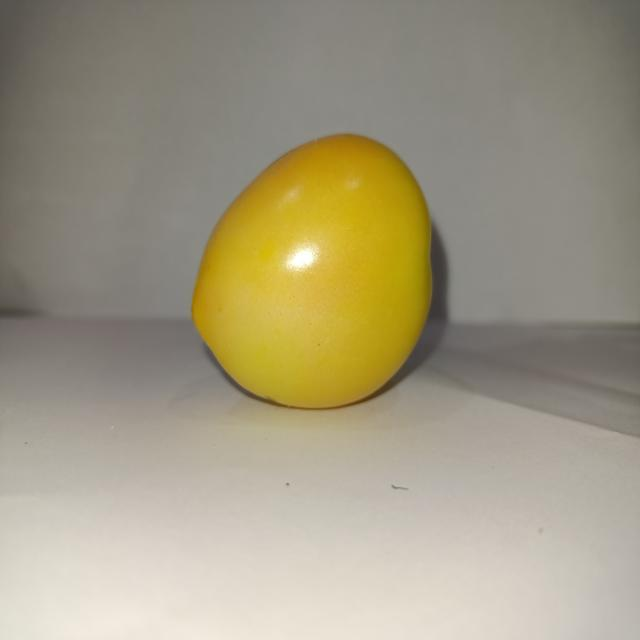Red: (190, 131, 434, 410)
